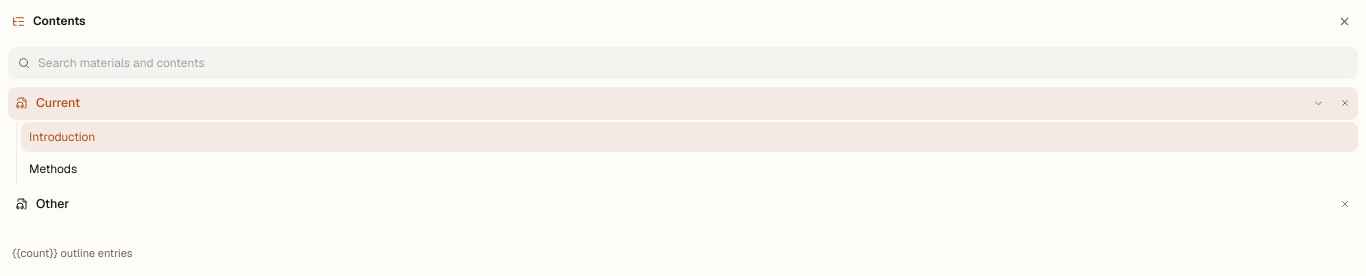
Test: reading source navigator › collapses and re-expands the active material
Check: the text "Introduction" is shown, box [29,128,95,146]
Click the button named "Collapse section" at (1318, 103), box [1309,94,1328,113]
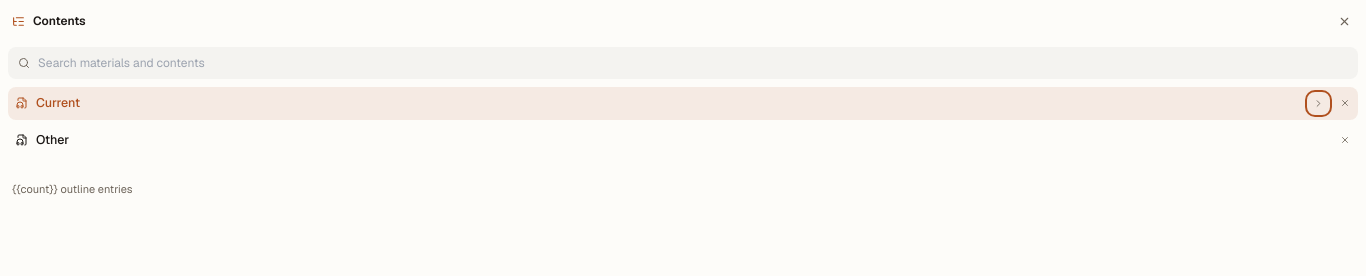
Check: the button "Introduction" is gone
Click the button named "Expand section" at (1318, 103), box [1309,94,1328,113]
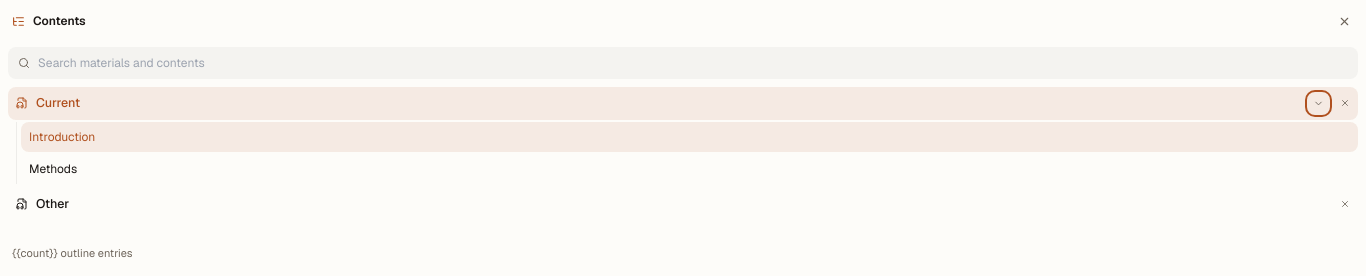
Check: the text "Introduction" is shown, box [29,128,95,146]
